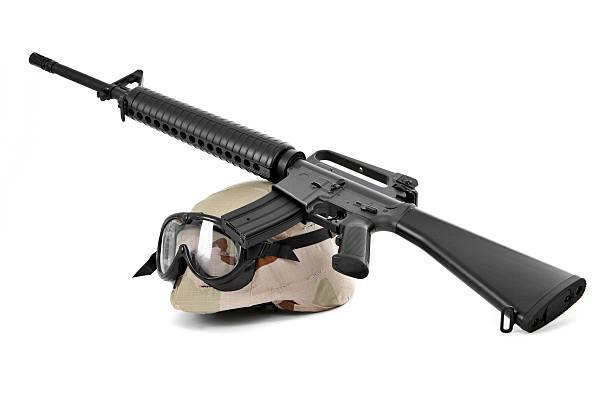larga: (27, 50, 588, 335)
